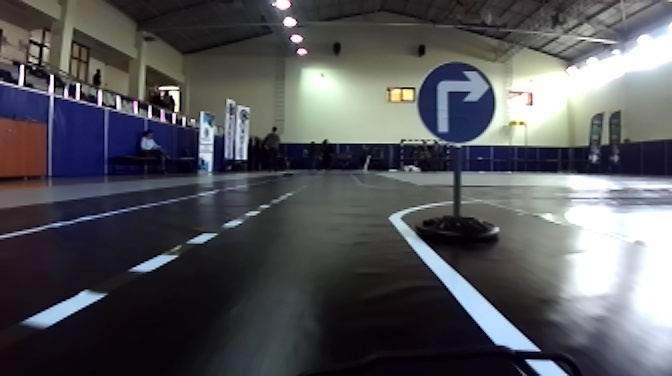saga_donus: (418, 61, 495, 143)
